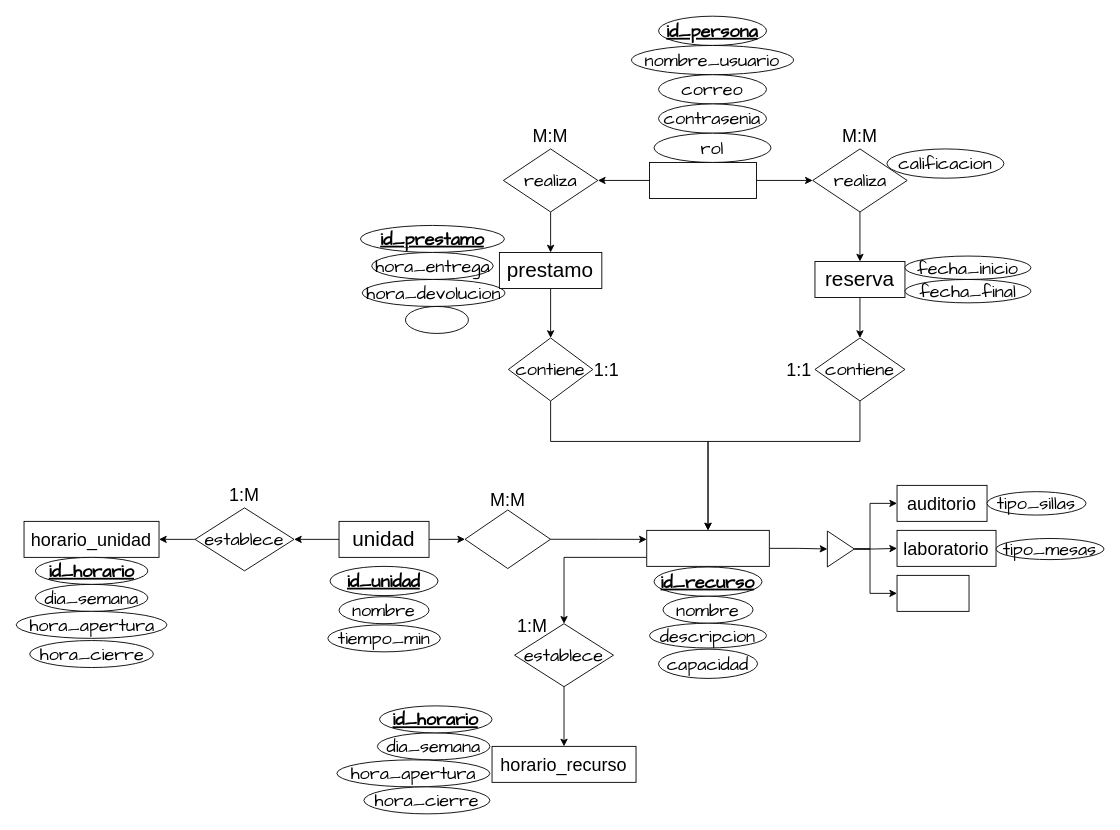
This 1120x830 diagram has some shape labels left out. The shapes that lost their labels are listed below. From the top down, each one's centre as x and y in pixels, then its label:
the point at 702,180: usuario
the point at 436,319: fallo
the point at 507,539: registra
the point at 707,547: recurso
the point at 932,592: salon
